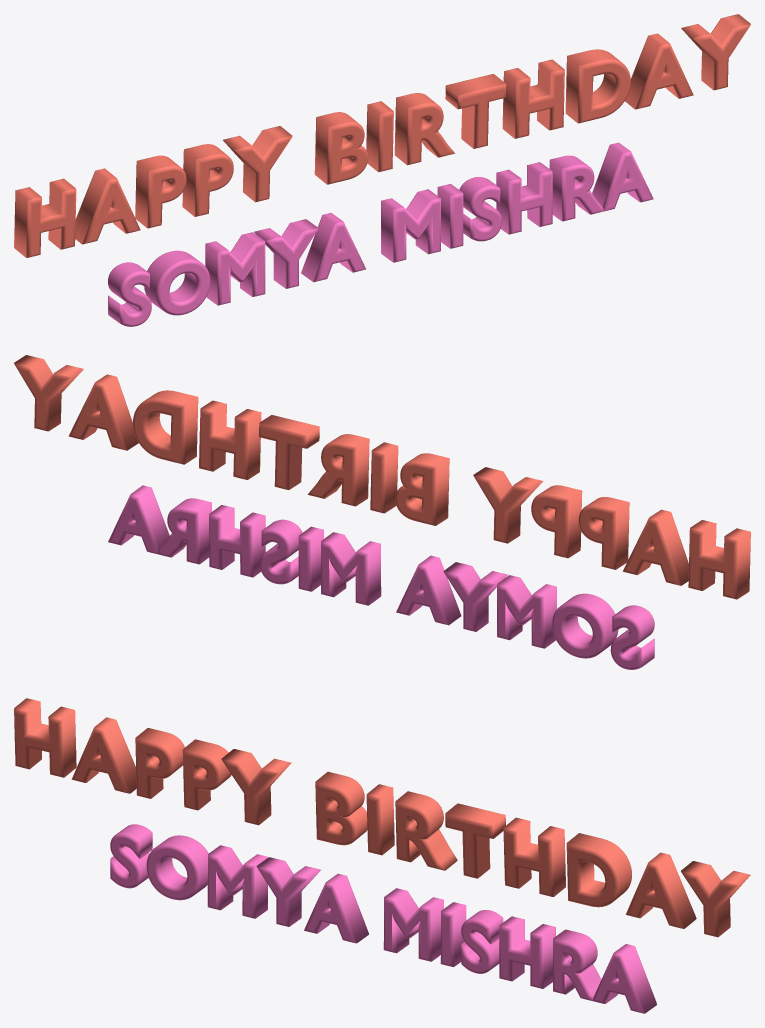
File: somya.gltf
The picture shows the model from 3 angles, top to bottom: view 1: azimuth 30°, elevation 25°; view 2: azimuth 150°, elevation 25°; view 3: azimuth 330°, elevation 25°; orthographic projection.
Parts seen in each view (by area): view 1: Text, Text.001; view 2: Text, Text.001; view 3: Text, Text.001.
Boxes of the visible parts, x1=… form: Text: x1=14, y1=14, x2=750, y2=257; Text.001: x1=108, y1=142, x2=653, y2=326; Text: x1=14, y1=355, x2=750, y2=599; Text.001: x1=108, y1=485, x2=654, y2=669; Text: x1=14, y1=698, x2=750, y2=937; Text.001: x1=110, y1=824, x2=656, y2=1013.
Size of the model in its own units: 10.9 by 2.23 by 0.4463.
